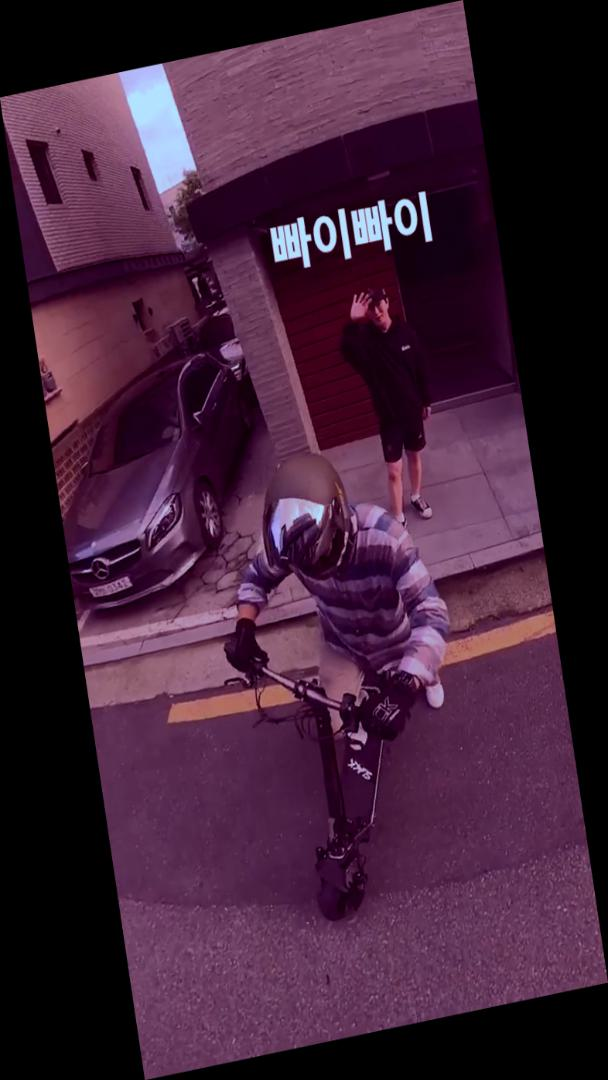helmet: (190, 426, 493, 943)
